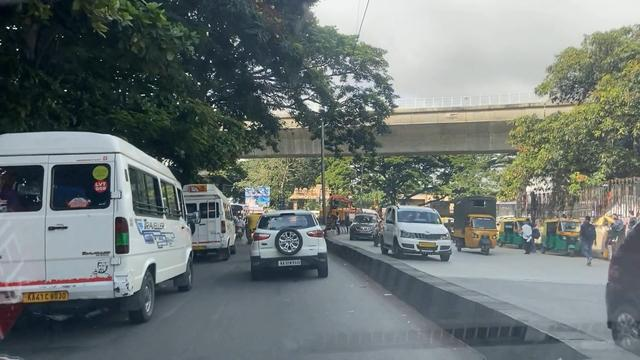HMV: (0, 133, 192, 318), (190, 189, 242, 261)
LMV: (252, 214, 331, 277)
